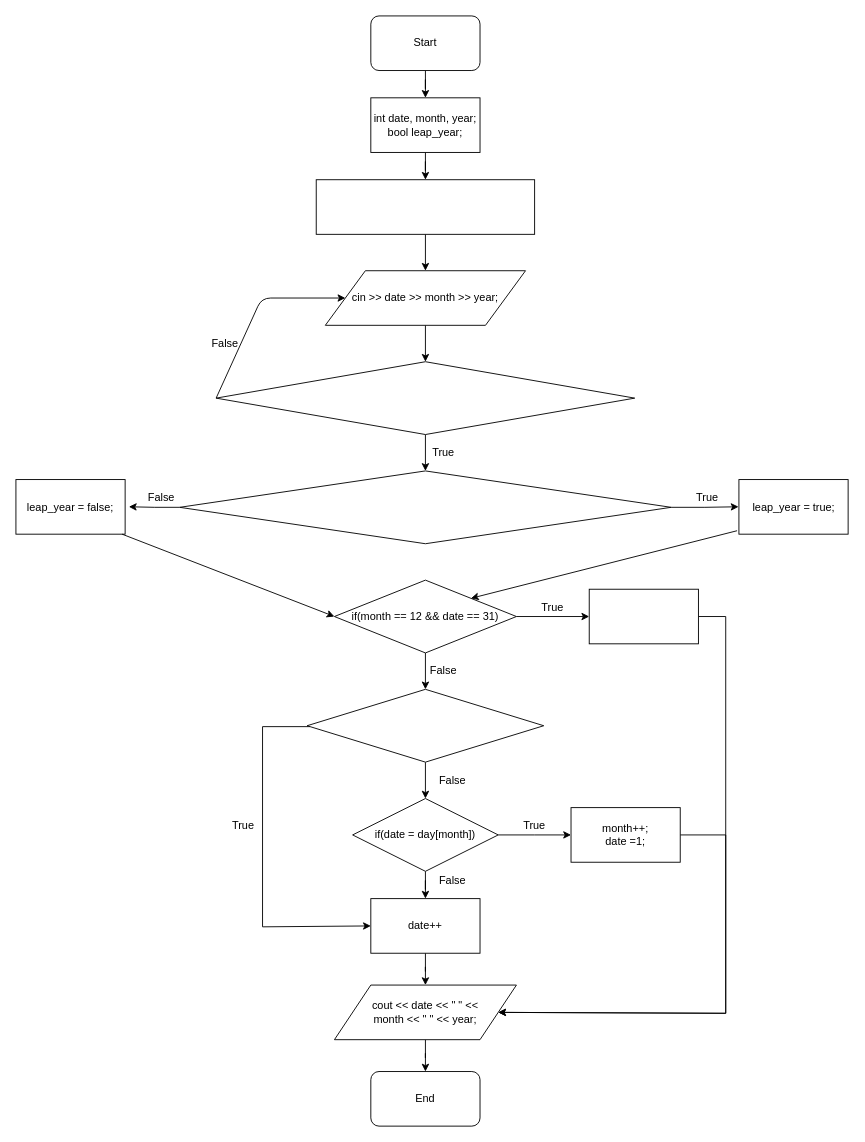
This 865x1142 diagram has some shape labels left out. Here are the shapes that lost their labels. From the top down, the centre of each, then its label:
point 425,206: int day[13] = {0, 31, 28, 31, 30, 31, 30, 31, 31, 30, 31, 30, 31}
point 425,398: if(not((year > 0) || (month >= 1 && month <= 12) || (1 <= date && date <= 31)))
point 425,507: if((year % 4 == 0) && ((year % 400 == 0) || (year % 100 != 0)))
point 643,616: year++; month = 1; date = 1;
point 425,725: if(month == 2 && date == 28 && leap_year == true)
